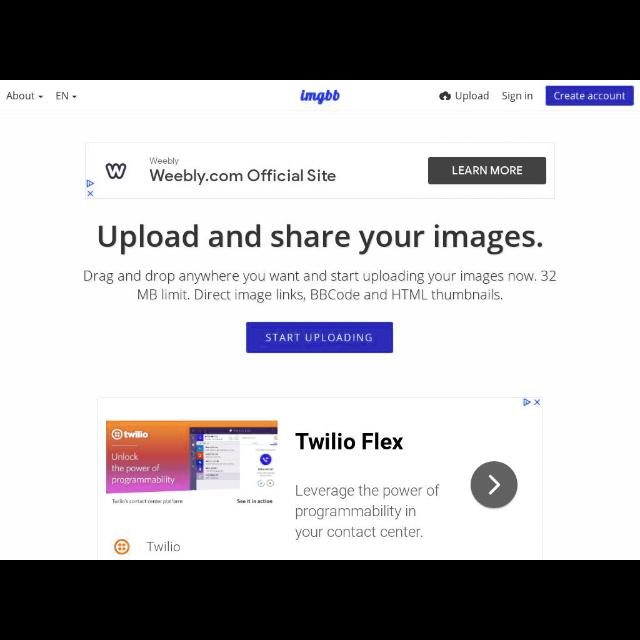icon: (440, 91, 450, 101), (38, 94, 42, 100), (72, 95, 76, 98)
iframe: (98, 398, 542, 560), (85, 144, 555, 198)
image: (300, 90, 340, 104)
spinner: (5, 90, 46, 104), (56, 90, 78, 104)
text: (84, 270, 556, 298), (97, 226, 543, 254), (265, 333, 373, 343), (554, 92, 626, 101), (455, 91, 489, 103), (502, 91, 534, 102), (6, 91, 34, 101), (56, 91, 68, 101)
textbutton: (246, 322, 394, 353), (546, 84, 634, 106)
toolbar: (1, 80, 639, 112)
